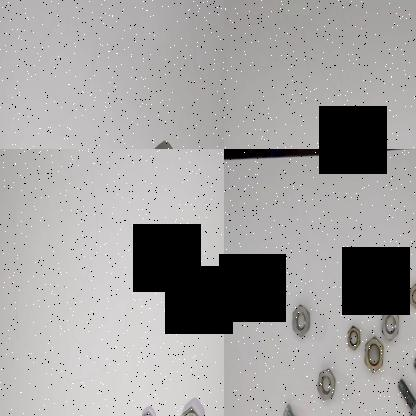Bolts: (394, 375, 416, 416), (280, 399, 309, 416)
NUTS: (362, 333, 383, 376), (378, 304, 401, 341), (289, 302, 311, 338), (314, 367, 336, 401), (344, 322, 361, 350), (178, 401, 203, 416), (407, 282, 416, 310), (136, 403, 155, 416)
